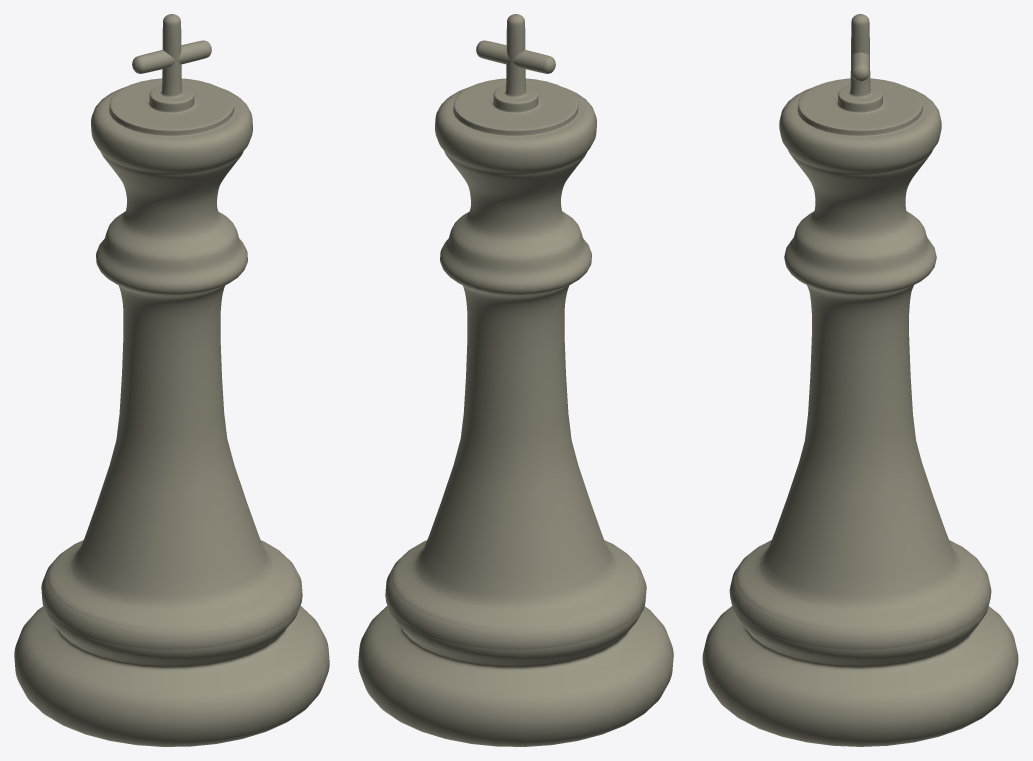
Rendered from klasikset_k_w.glb.
3 renders of one model, left to right at view 1: azimuth 30°, elevation 25°; view 2: azimuth 150°, elevation 25°; view 3: azimuth 270°, elevation 25°, orthographic.
Parts seen in each view (by area): view 1: White chess side.001_6; view 2: White chess side.001_6; view 3: White chess side.001_6.
Part boxes in pixels (<box>): White chess side.001_6: <box>14,14,329,746</box>; White chess side.001_6: <box>358,14,673,746</box>; White chess side.001_6: <box>702,14,1018,746</box>.
Bounding box in the file's own units: 1.35 × 3.2 × 1.35.
